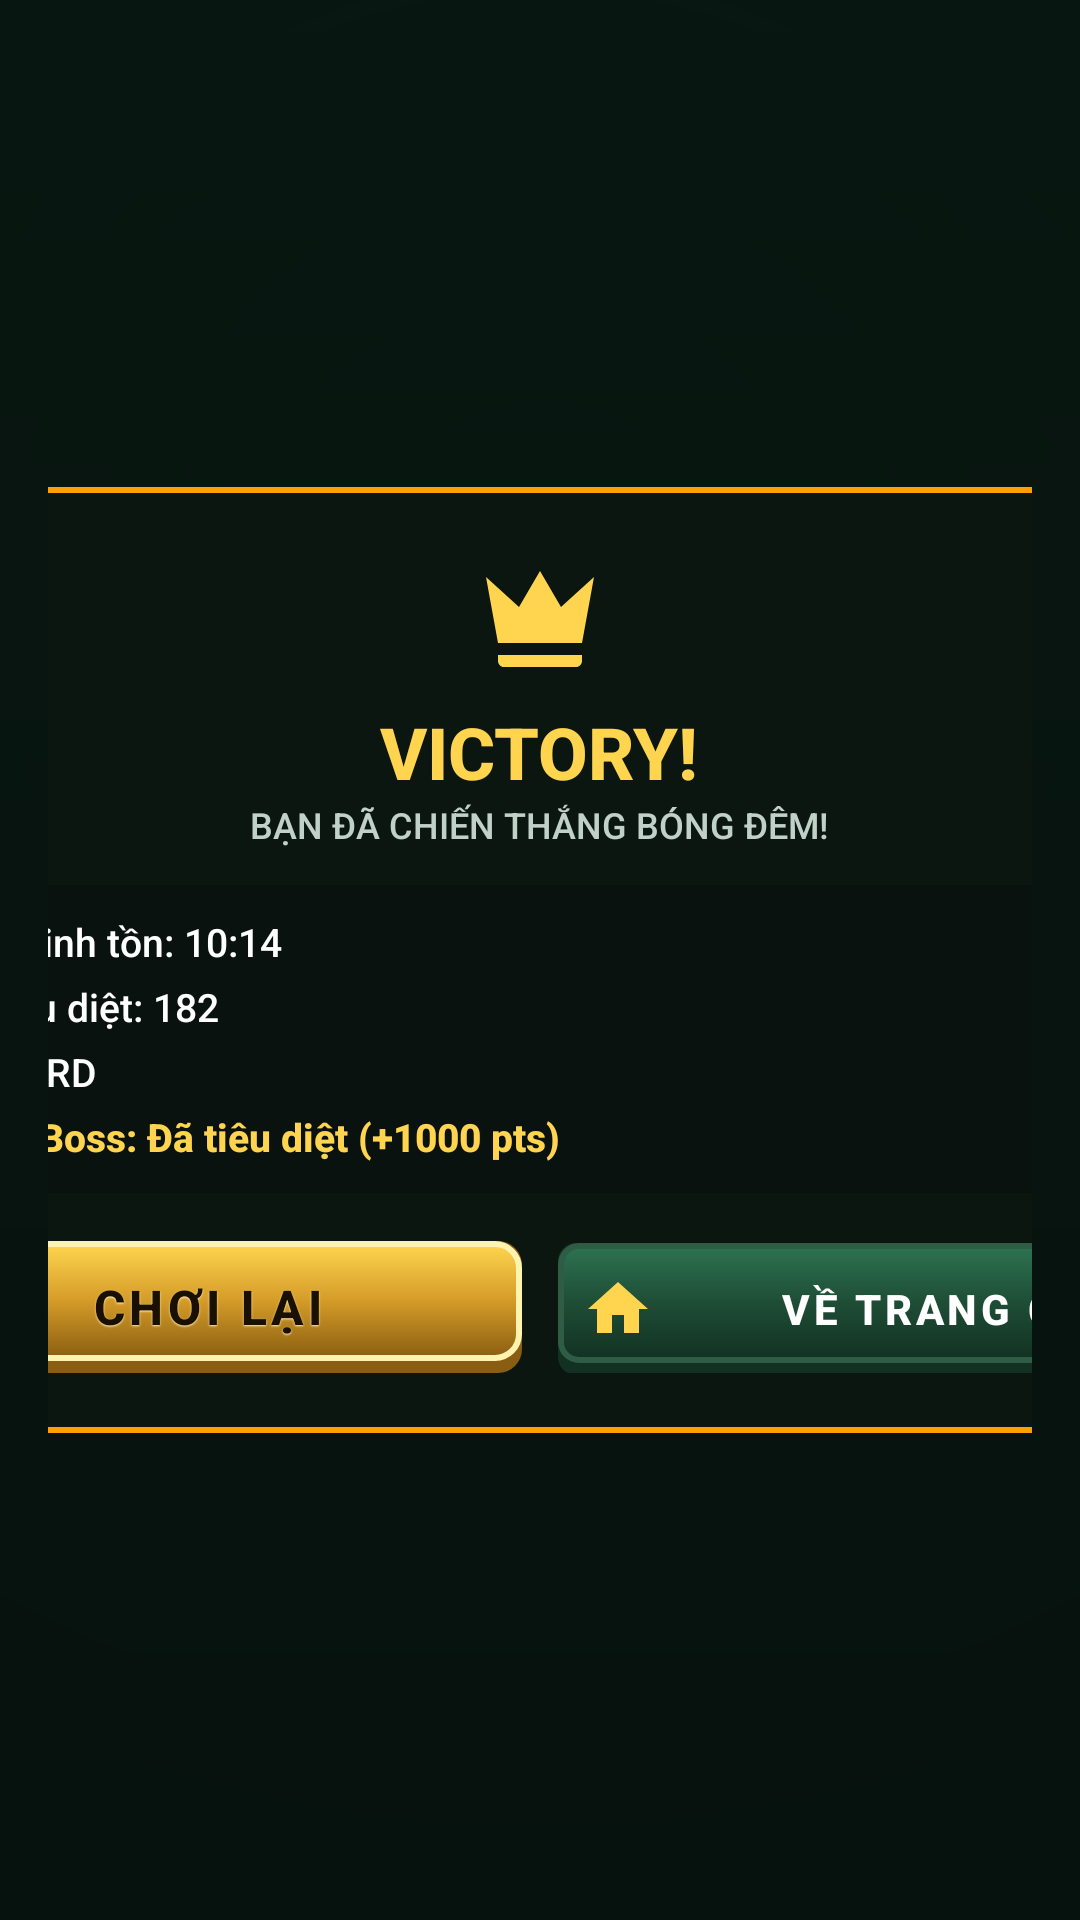

Screen size 1080 × 1920. Icon name, then its center in pixels as (x,y):
crown: (540,619)
